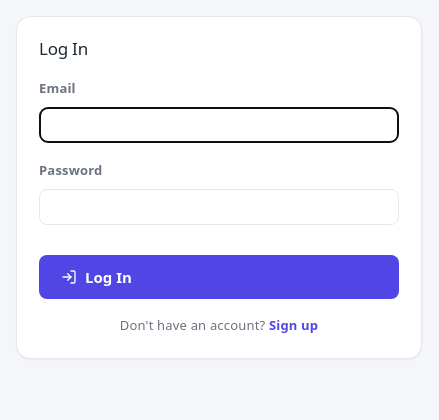
CustomerLoginPage › shows an error message and stays on the page when login fails
Type "alice@example.com" into the field labelled "Email". click: (219, 125)
box: [39, 107, 399, 143]
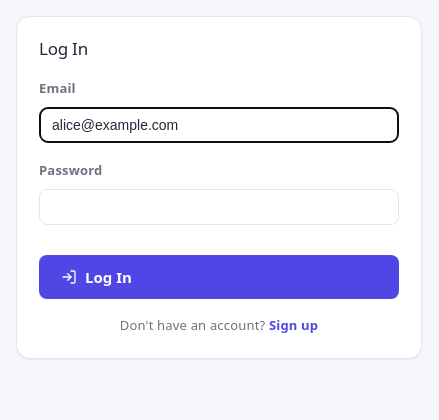
Type "wrong" into the password field labelled "Password". click: (219, 207)
box: [39, 189, 399, 225]
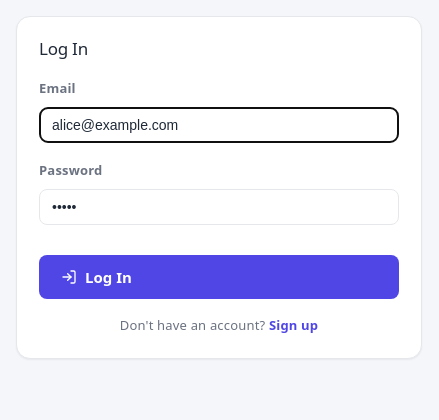
Click the button "Log In". click: (108, 277)
box: [39, 255, 399, 299]
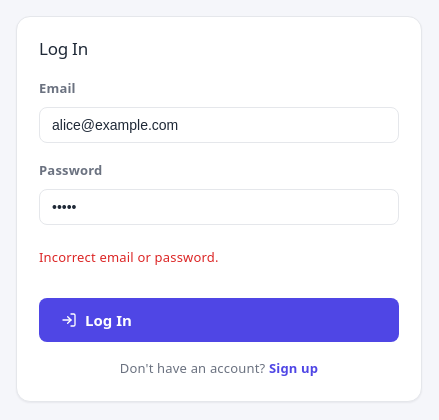
Now the text "Incorrect email or password." is shown, box [39, 248, 219, 266]
